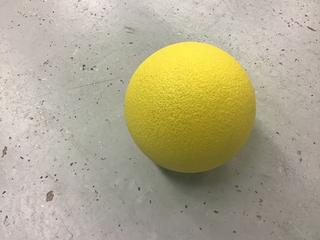power_cell: (118, 41, 263, 176)
